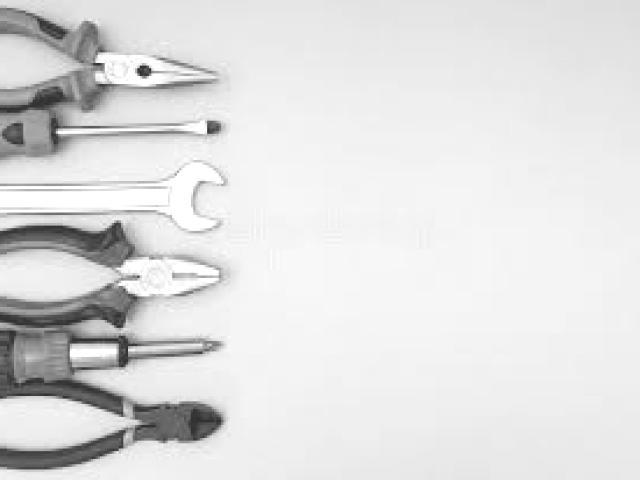Cutting pliers: (0, 382, 222, 469)
Needle-nose pliers: (1, 9, 218, 112)
Pliers: (0, 224, 220, 328)
Screwdriver: (0, 331, 221, 388), (0, 109, 221, 157)
Wrench: (0, 162, 225, 231)
